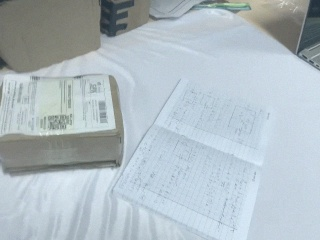box: (1, 73, 124, 175), (1, 1, 102, 74), (98, 1, 152, 39)
